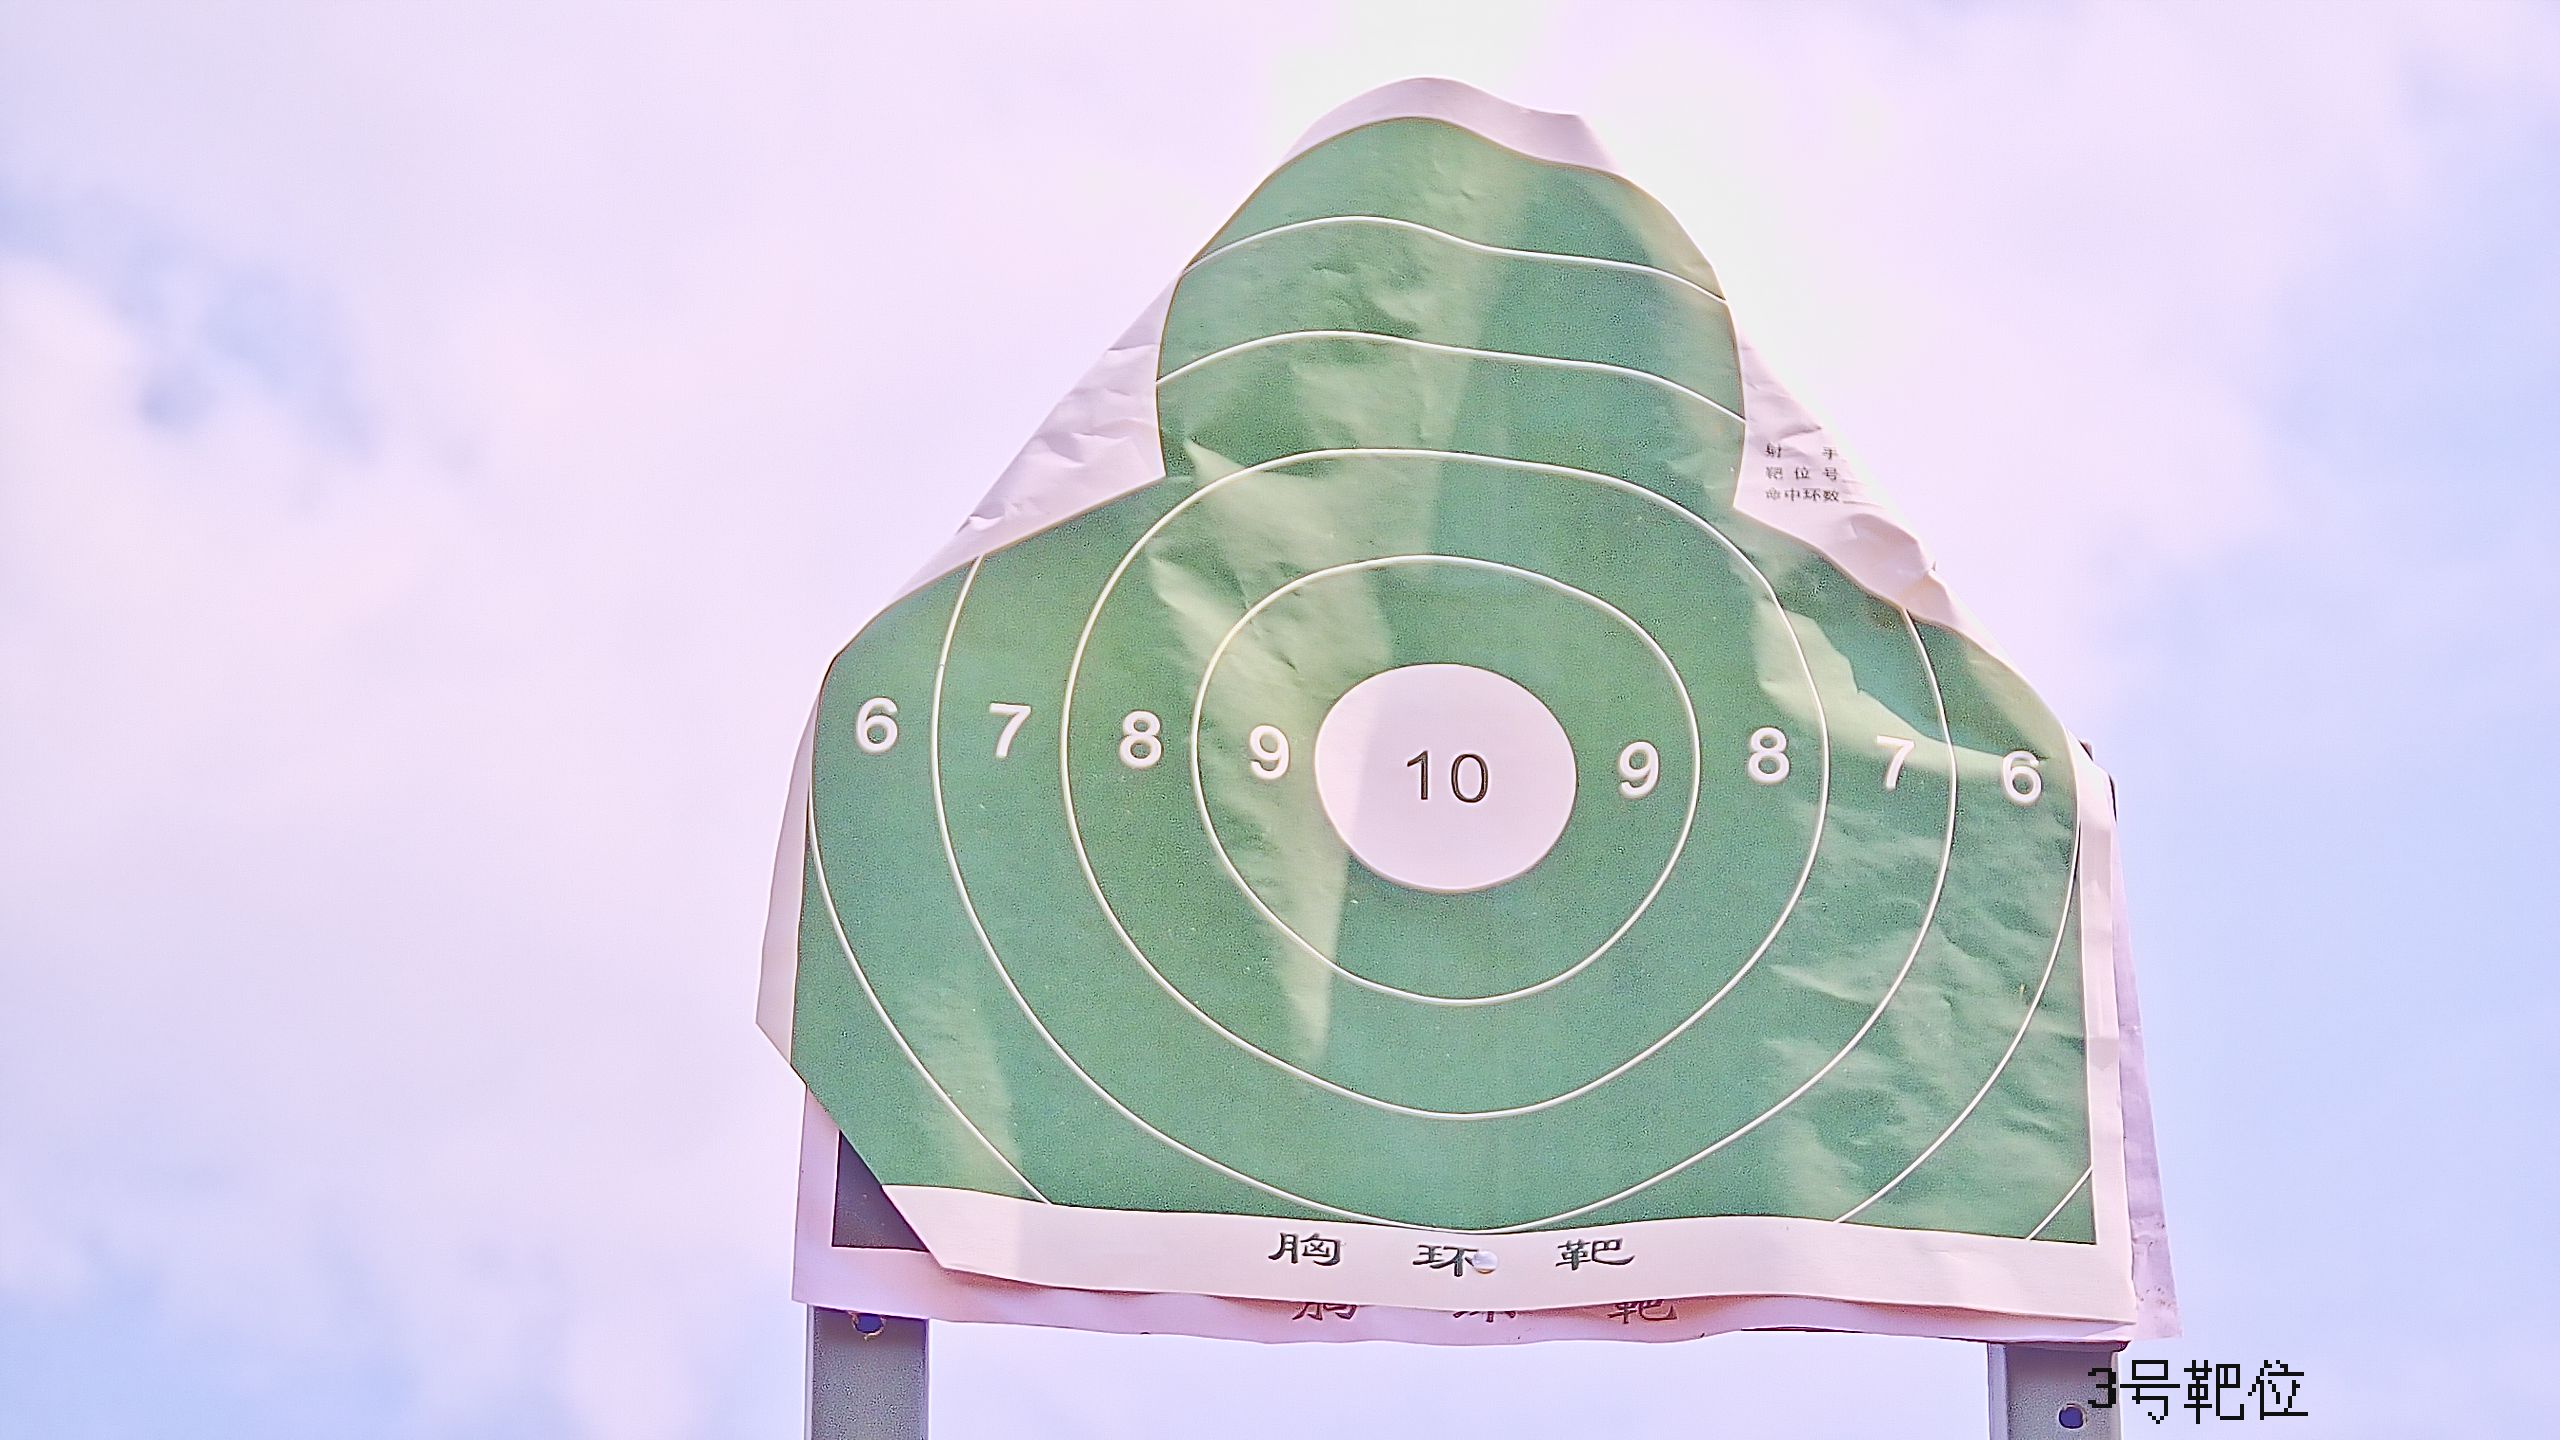kernel: (1436, 775, 1442, 781)
target: (795, 113, 2099, 1255)
ten: (1312, 658, 1575, 893)
